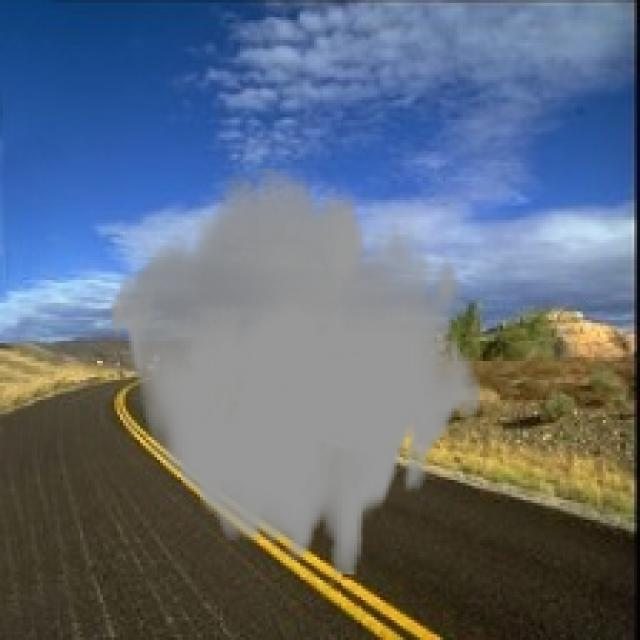Smoke: (108, 168, 483, 574)
